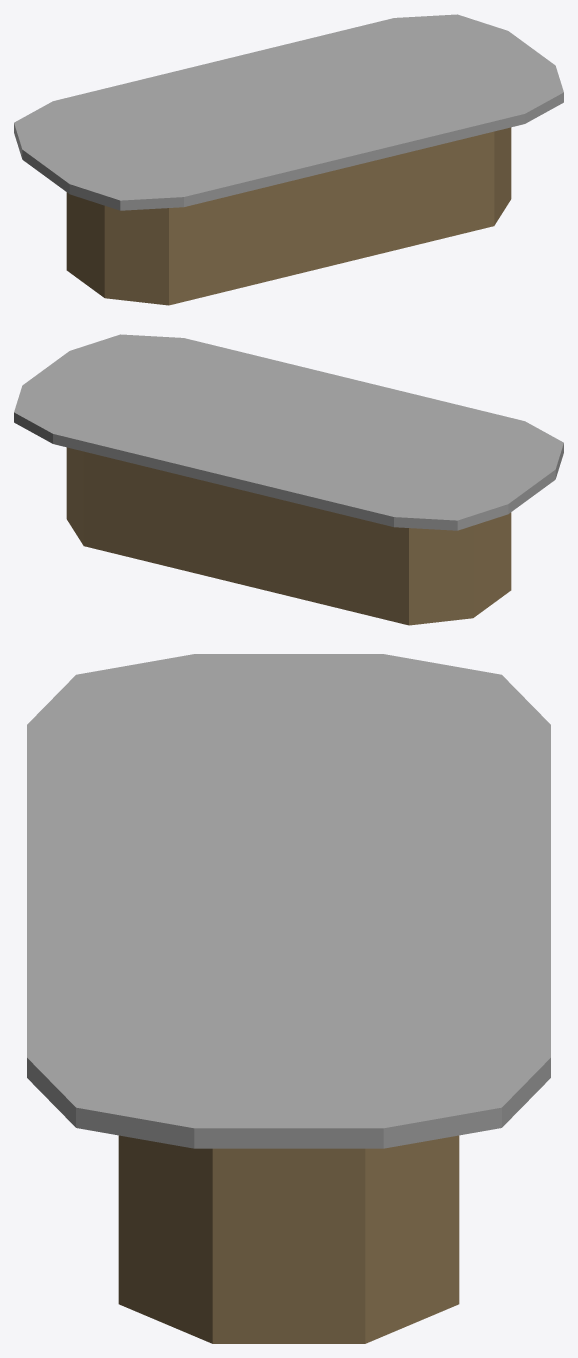
Rendered from SM_Props_Interior_Generic_Office_Table_Conference.fbx.
3 views of the same model, one above another, from view 1: azimuth 30°, elevation 25°; view 2: azimuth 150°, elevation 25°; view 3: azimuth 270°, elevation 25° (orthographic). The views are drawn at different scales.
Visible parts, largest first — view 1: SM_Props_Interior_Generic_Office_Table_Conference; view 2: SM_Props_Interior_Generic_Office_Table_Conference; view 3: SM_Props_Interior_Generic_Office_Table_Conference.
Boxes of the visible parts, x1,y1,x2,y2 form: SM_Props_Interior_Generic_Office_Table_Conference: (14, 14, 563, 305); SM_Props_Interior_Generic_Office_Table_Conference: (14, 334, 563, 625); SM_Props_Interior_Generic_Office_Table_Conference: (27, 654, 550, 1343).
Size of the model in its own units: 300 by 75 by 140.
